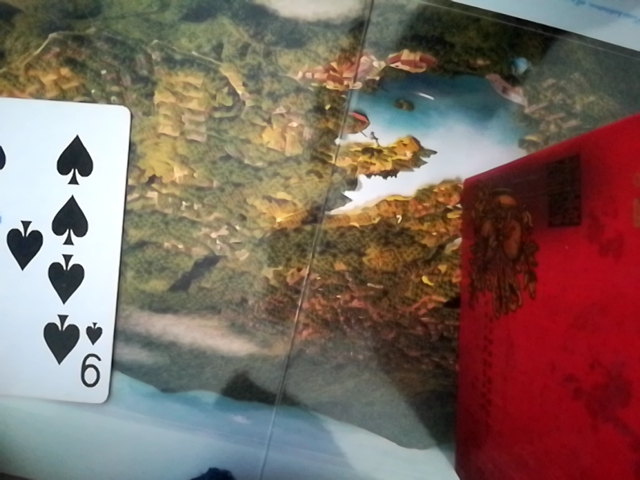ht 9: (0, 90, 128, 407)
